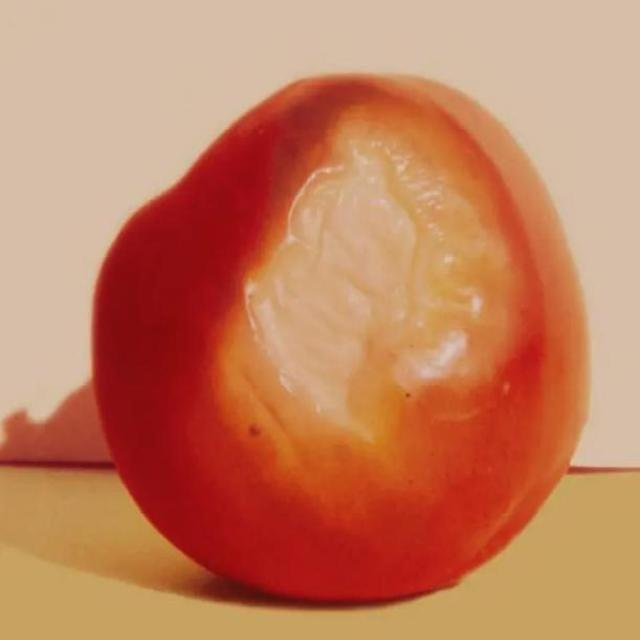Sunscald Fruit: (139, 69, 363, 332)
